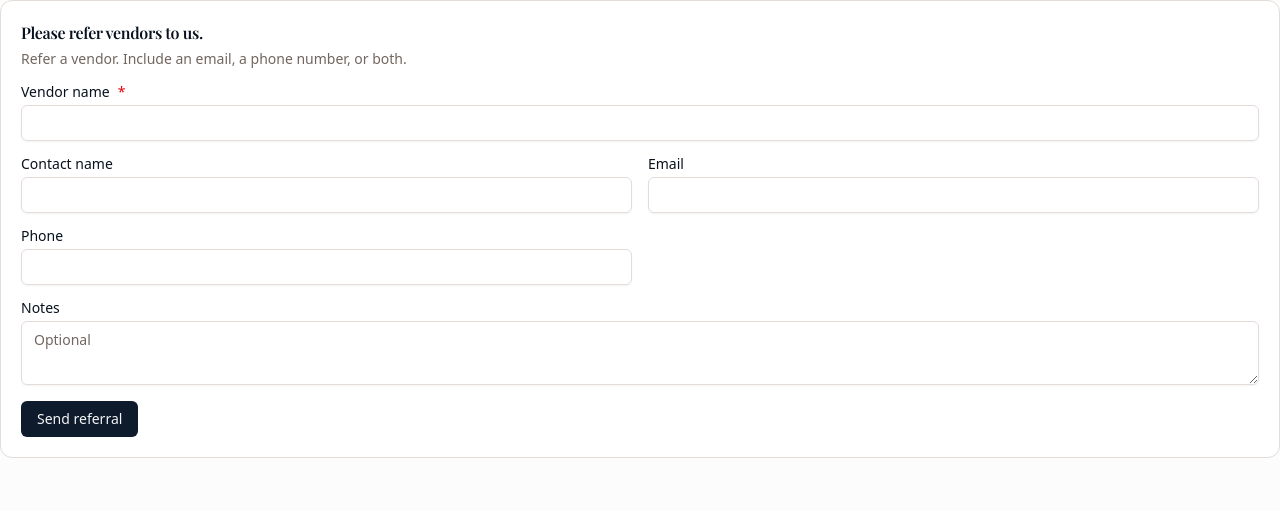
Test: ReferVendorForm › submits the referral, then clears the form and shows success
Type " Northwind Cabinets " into the field labelled "Vendor name *" at (640, 123), box [21, 105, 1259, 141]
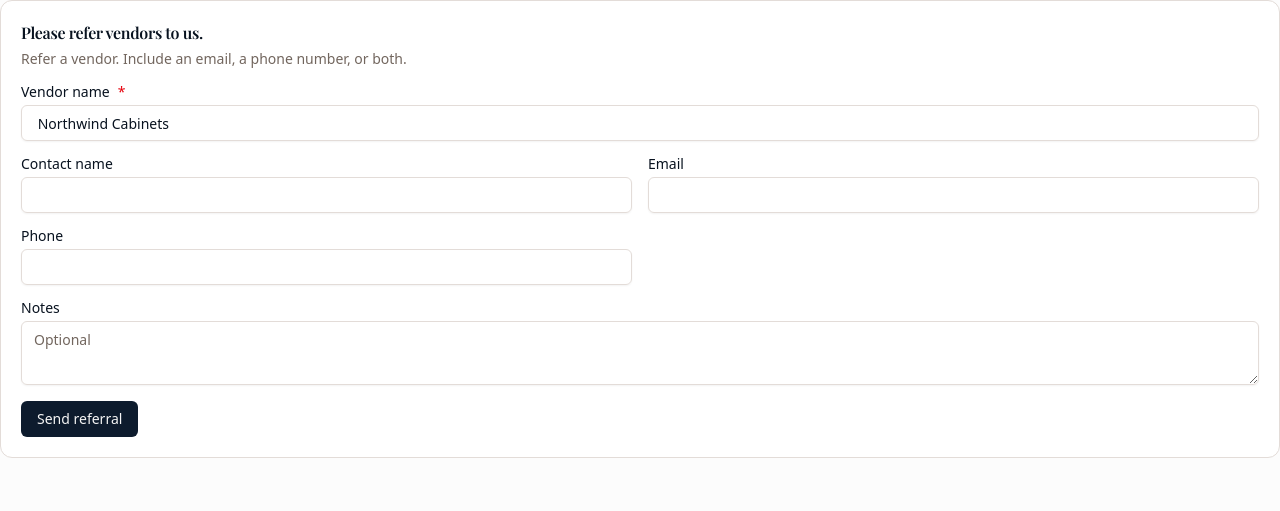
Type "Ada Lopez" into the field labelled "Contact name" at (326, 195), box [21, 177, 632, 213]
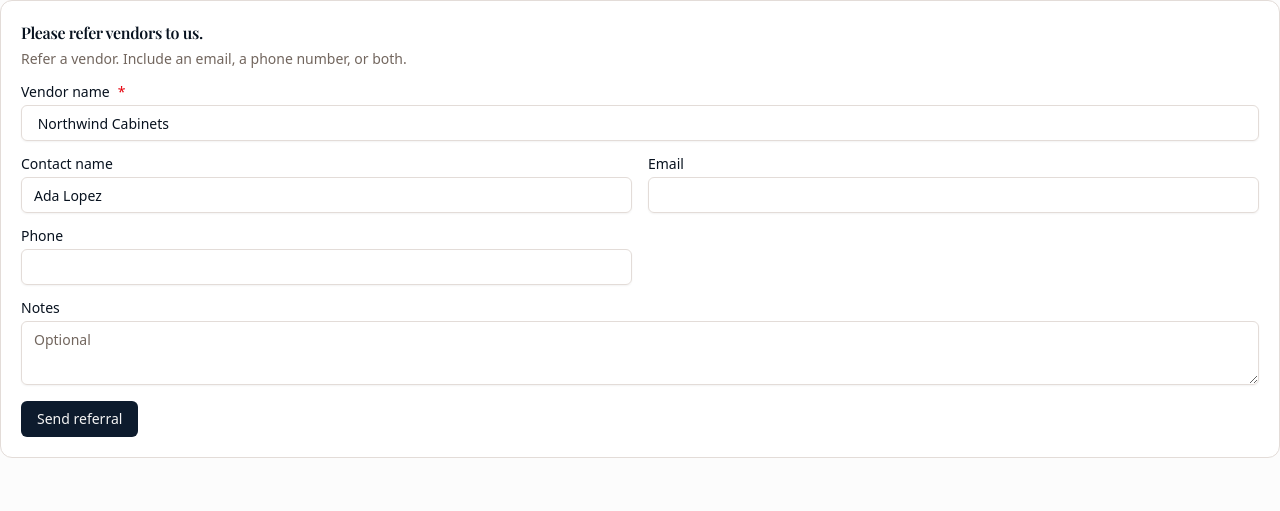
Type "ada@northwind.example" into the field labelled "Email" at (954, 195), box [648, 177, 1259, 213]
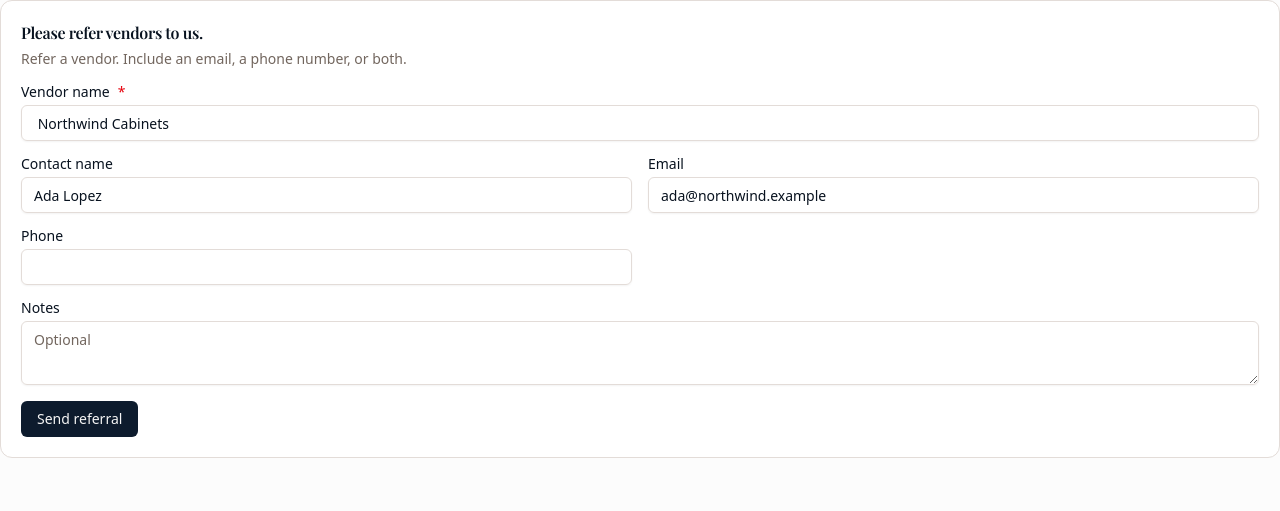
Type "Met them at a showroom." into the text box labelled "Notes" at (640, 353), box [21, 321, 1259, 385]
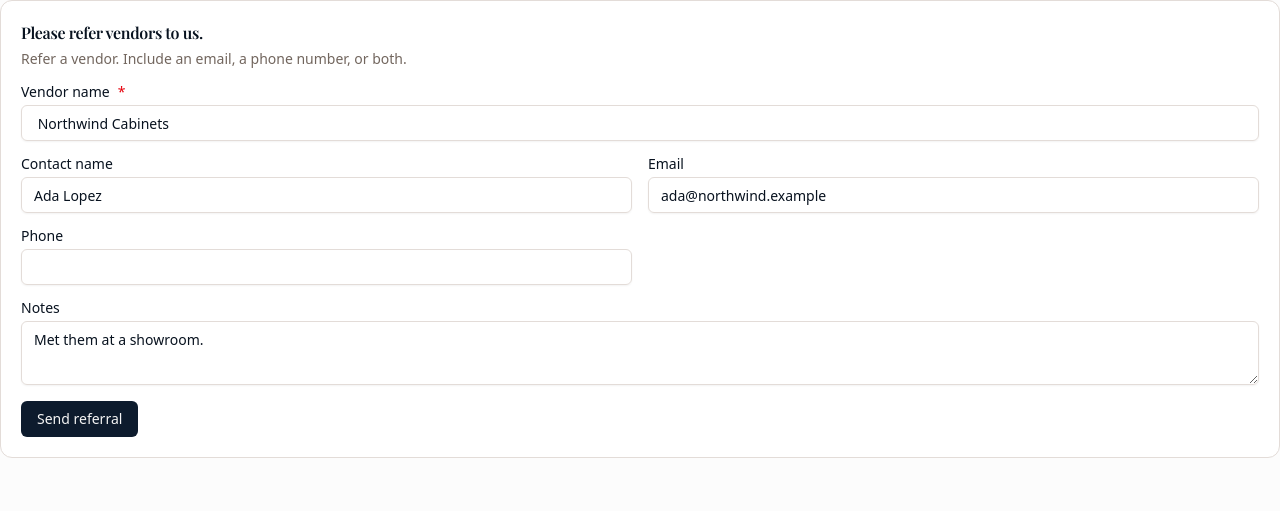
Click the button "Send referral" at (80, 419), box [21, 401, 138, 437]
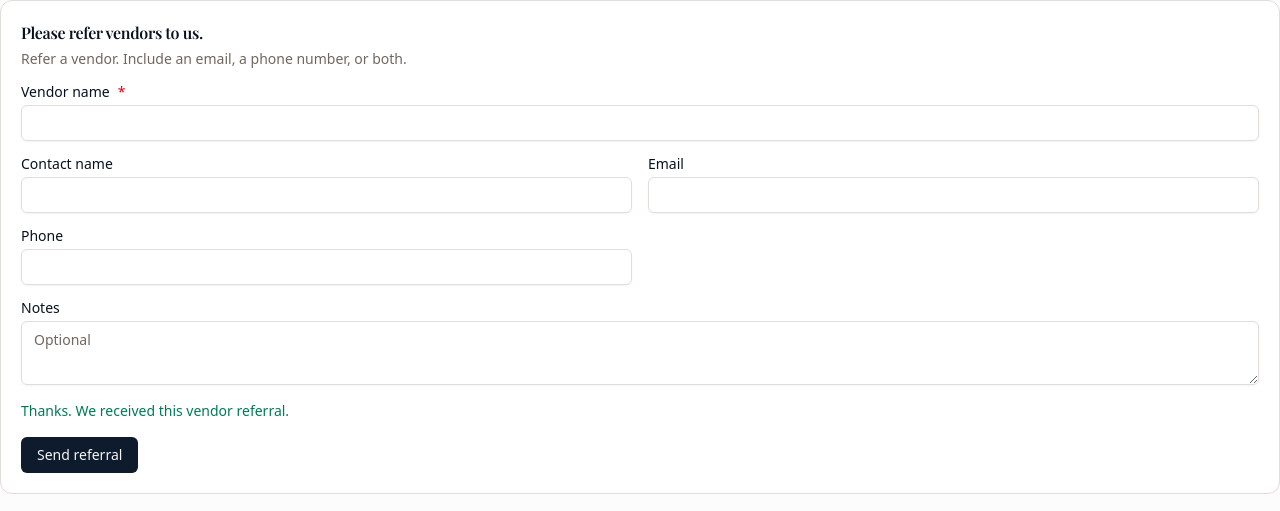
Expected: the message reads "Thanks. We received this vendor referral.", [21, 401, 289, 420]
Expected: the field labelled "Vendor name *" is empty, [21, 105, 1259, 141]
Expected: the field labelled "Contact name" is empty, [21, 177, 632, 213]
